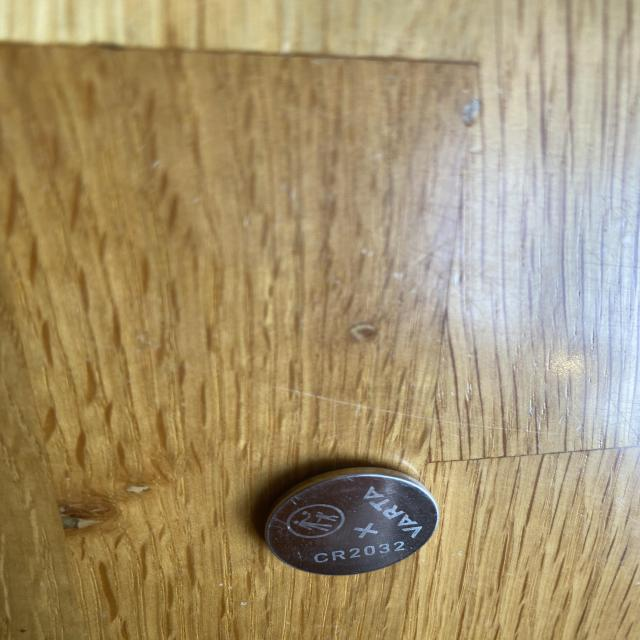COIN: (263, 466, 440, 576)
